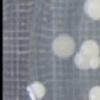white: (52, 32, 76, 60), (25, 78, 47, 100), (71, 50, 92, 73), (80, 39, 100, 58), (82, 0, 100, 21), (83, 82, 100, 100), (88, 54, 100, 71)
